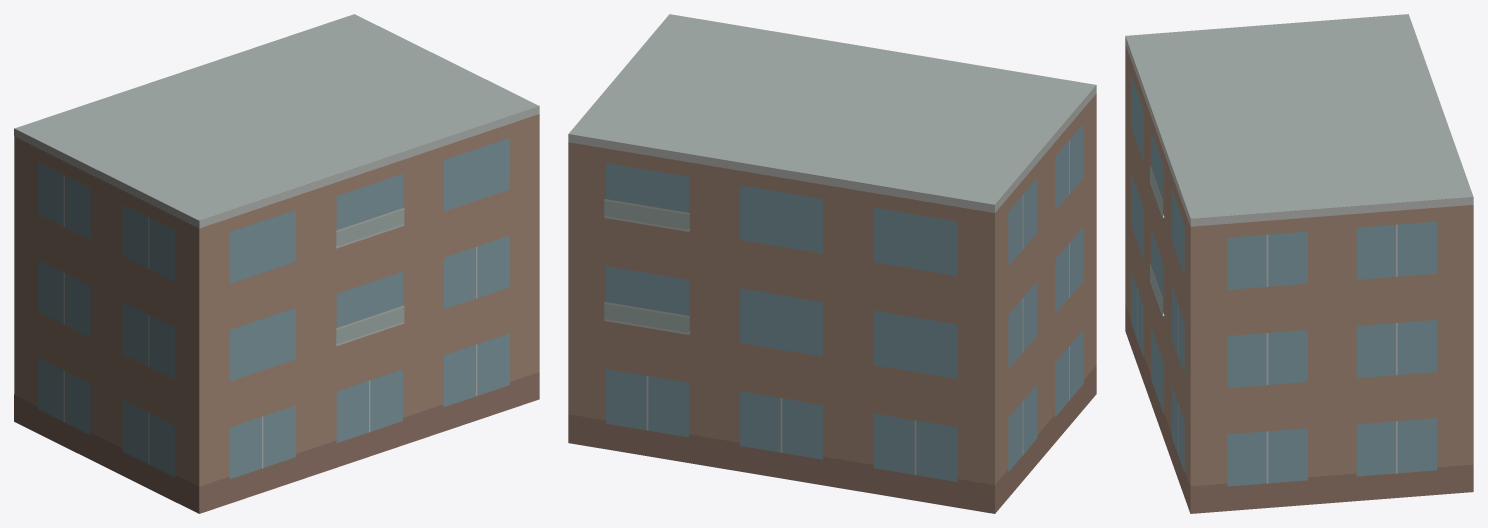
File: survey-upis-32621906.glb
3 renders of one model, left to right at view 1: azimuth 30°, elevation 25°; view 2: azimuth 150°, elevation 25°; view 3: azimuth 270°, elevation 25°, orthographic. The views are drawn at different scales.
Parts seen in each view (by area): view 1: survey-upis-32621906.tmp; view 2: survey-upis-32621906.tmp; view 3: survey-upis-32621906.tmp.
Part boxes in pixels (x1,y1,x2,y2): survey-upis-32621906.tmp: (14, 14, 539, 513); survey-upis-32621906.tmp: (568, 14, 1096, 513); survey-upis-32621906.tmp: (1125, 14, 1473, 513).
Size of the model in its own units: 13.63 by 9.15 by 9.8.
